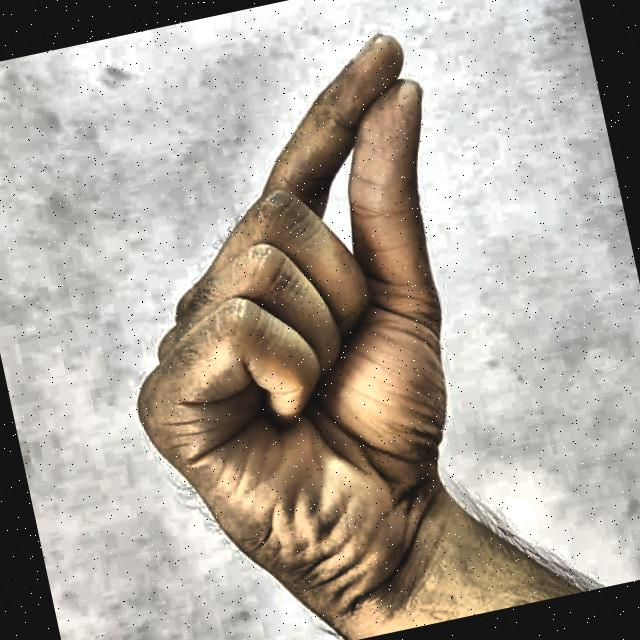Anusshar: (22, 0, 564, 640)
